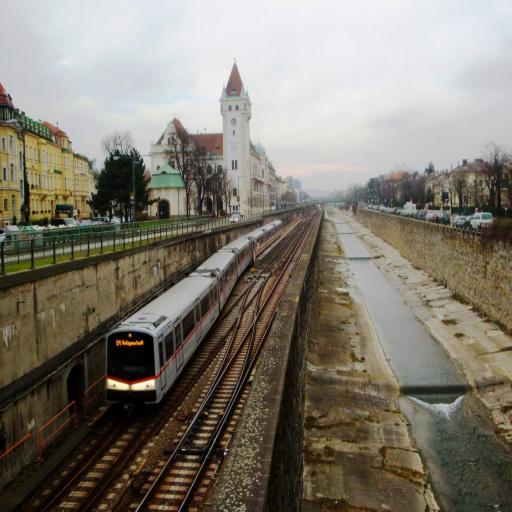X-Wagen: (102, 218, 284, 404)
